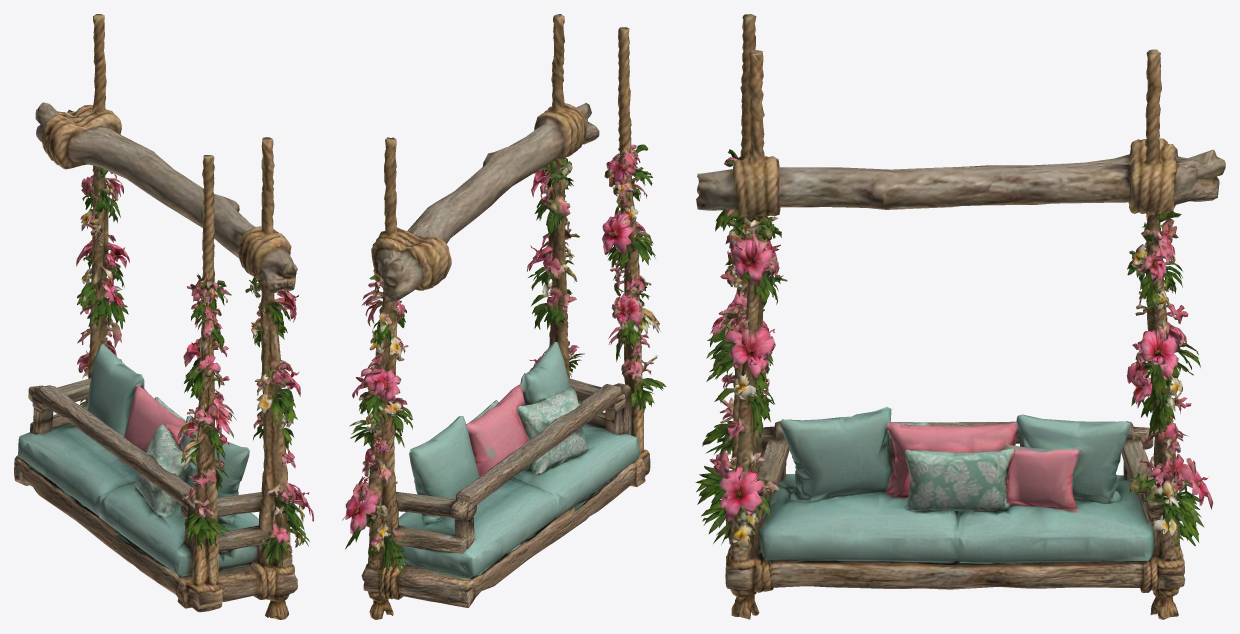
File: SM_PalmSwing.glb
3 renders of one model, left to right at view 1: azimuth 30°, elevation 25°; view 2: azimuth 150°, elevation 25°; view 3: azimuth 270°, elevation 25°, orthographic. The views are drawn at different scales.
Visible parts, largest first — view 1: tripo_node_21b84b0f-3d28-4fab-aa50-140999f80166; view 2: tripo_node_21b84b0f-3d28-4fab-aa50-140999f80166; view 3: tripo_node_21b84b0f-3d28-4fab-aa50-140999f80166.
Part boxes in pixels (<box>): tripo_node_21b84b0f-3d28-4fab-aa50-140999f80166: <box>14,14,313,619</box>; tripo_node_21b84b0f-3d28-4fab-aa50-140999f80166: <box>342,14,666,619</box>; tripo_node_21b84b0f-3d28-4fab-aa50-140999f80166: <box>695,14,1225,619</box>.
Bounding box in the file's own units: 0.2849 × 0.9814 × 0.8427.
Materials: 1 (1 with a texture image).
